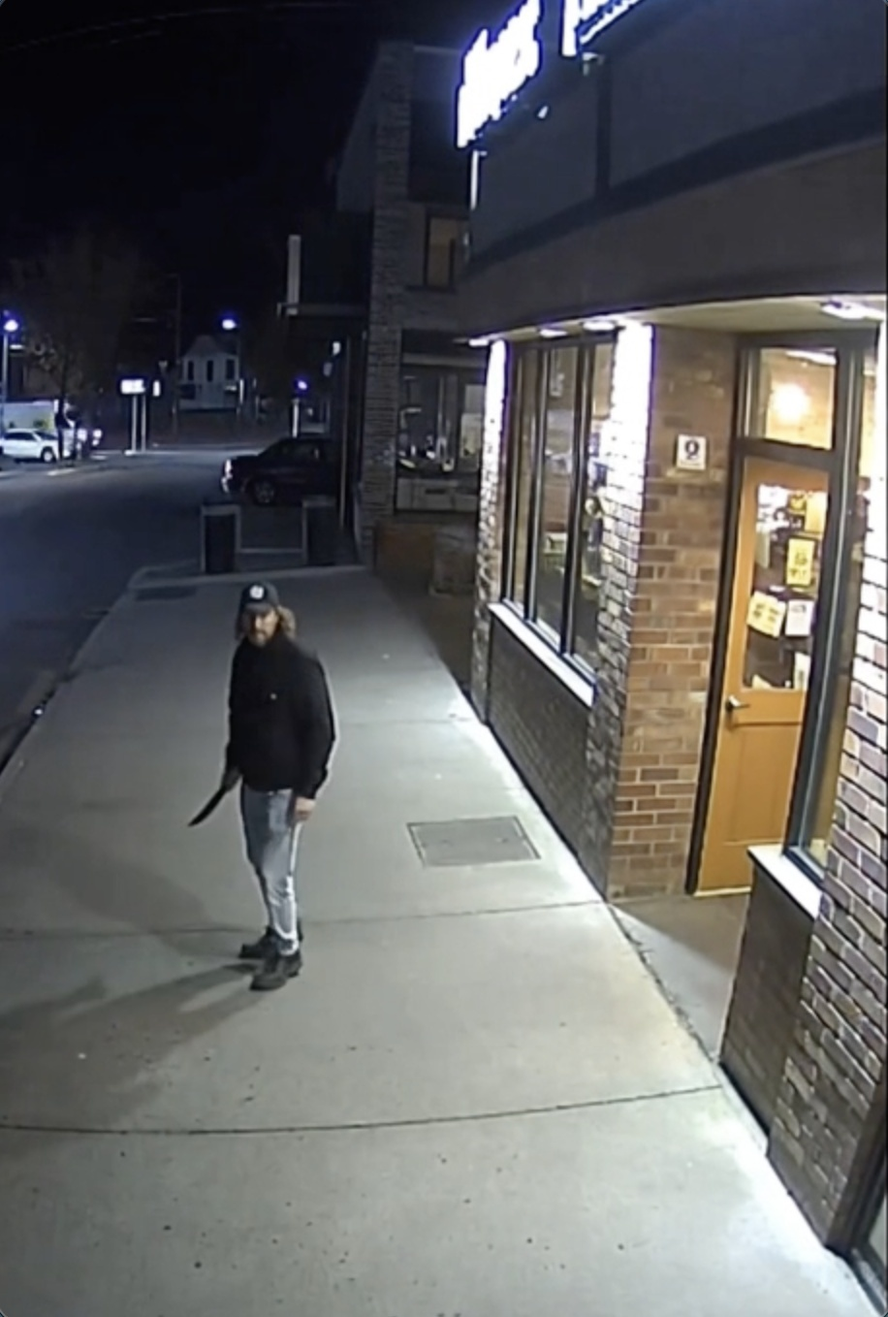knife: (192, 761, 244, 839)
person: (218, 586, 333, 1007)
